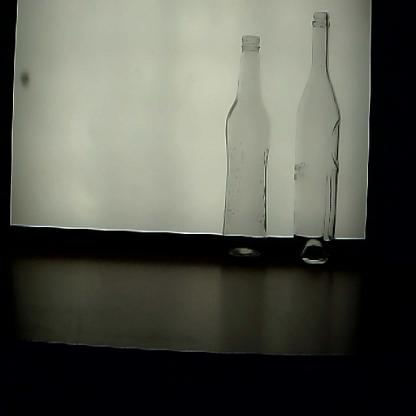Can: (291, 12, 341, 282), (218, 32, 272, 272)
